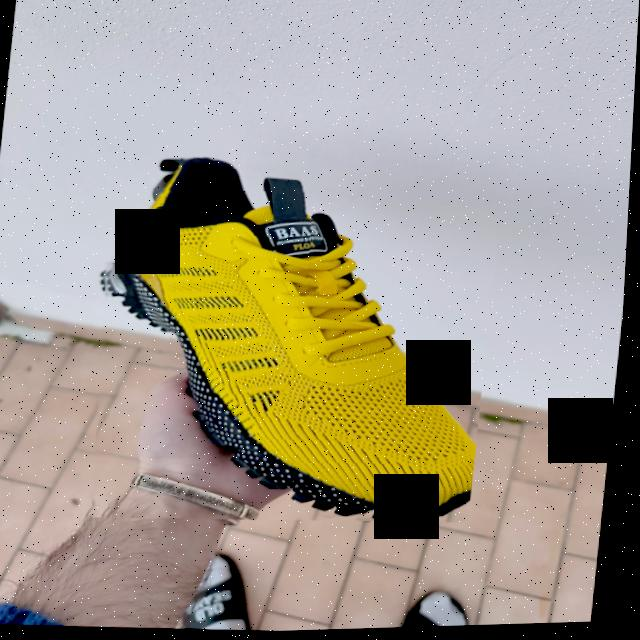shoe: (80, 147, 508, 538)
